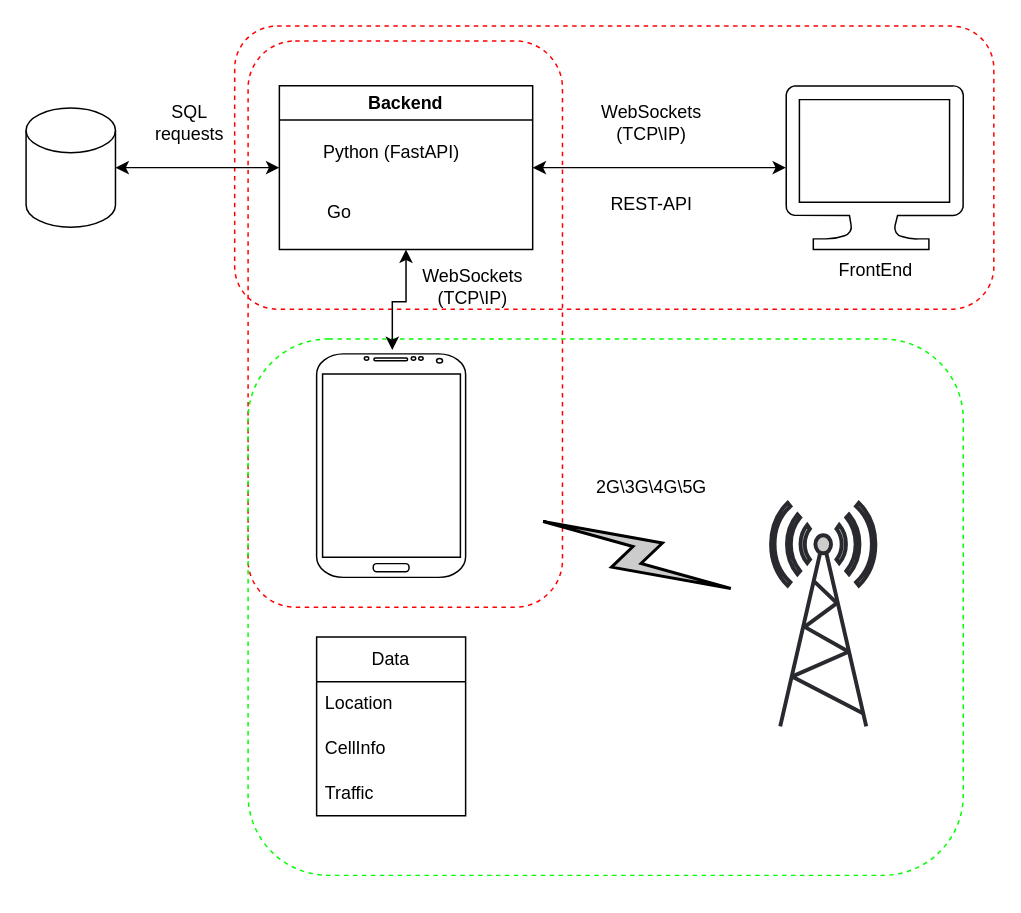
Image size: 1021x913. Some labels were removed from this diagram. The shapes that lost their labels are listed below. From the top down, each one's centre as x and y in pixels, then its label:
At pixel 70 167: "DataBase".
At pixel 390 464: "Android".
